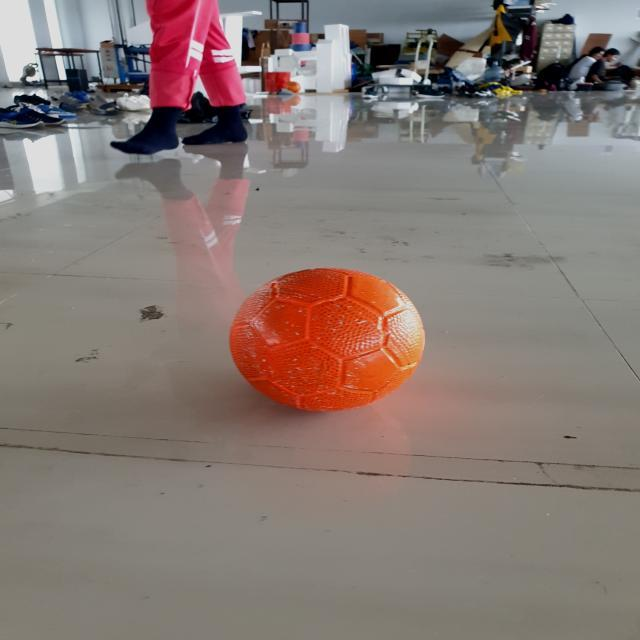bola: (223, 262, 431, 416)
